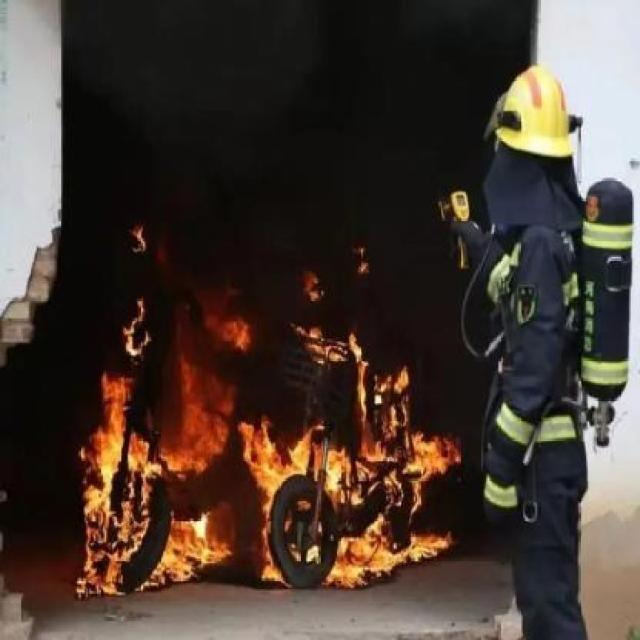Fire: (81, 374, 148, 596), (358, 368, 456, 479), (333, 516, 449, 582), (238, 418, 348, 486), (125, 297, 148, 357)
Smoke: (68, 8, 302, 346)
